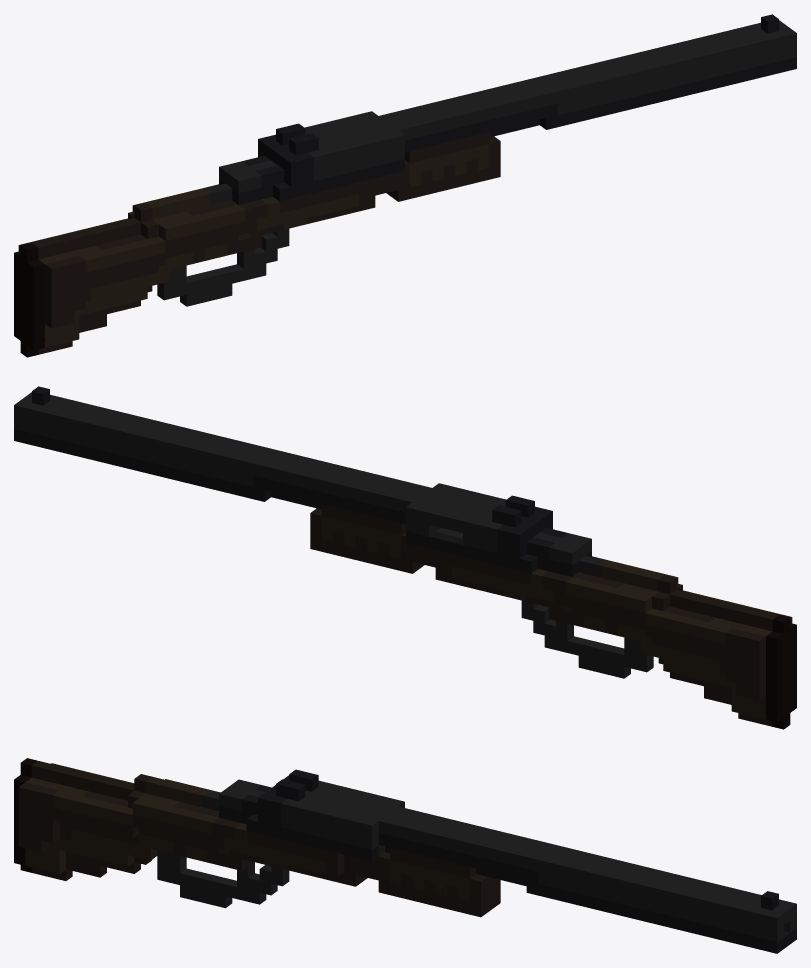
The model's file is shotgun1.obj.
The picture shows the model from 3 angles, top to bottom: view 1: azimuth 30°, elevation 25°; view 2: azimuth 150°, elevation 25°; view 3: azimuth 330°, elevation 25°; orthographic projection.
Parts seen in each view (by area): view 1: shotgun1-flat_shotgun1-flat.001; view 2: shotgun1-flat_shotgun1-flat.001; view 3: shotgun1-flat_shotgun1-flat.001.
Boxes of the visible parts, left/top/right/bottom form: shotgun1-flat_shotgun1-flat.001: left=14, top=14, right=796, bottom=357; shotgun1-flat_shotgun1-flat.001: left=14, top=386, right=796, bottom=729; shotgun1-flat_shotgun1-flat.001: left=14, top=758, right=796, bottom=953.
Size of the model in its own units: 111 by 21.51 by 8.27.
